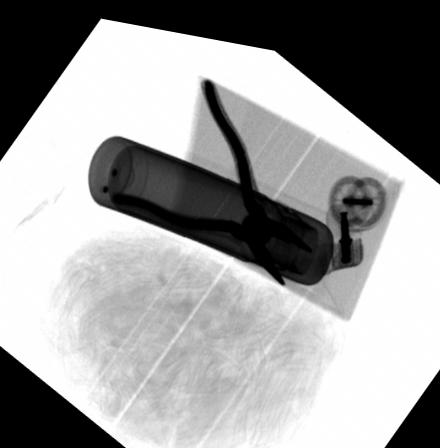Pliers: (111, 69, 317, 276)
